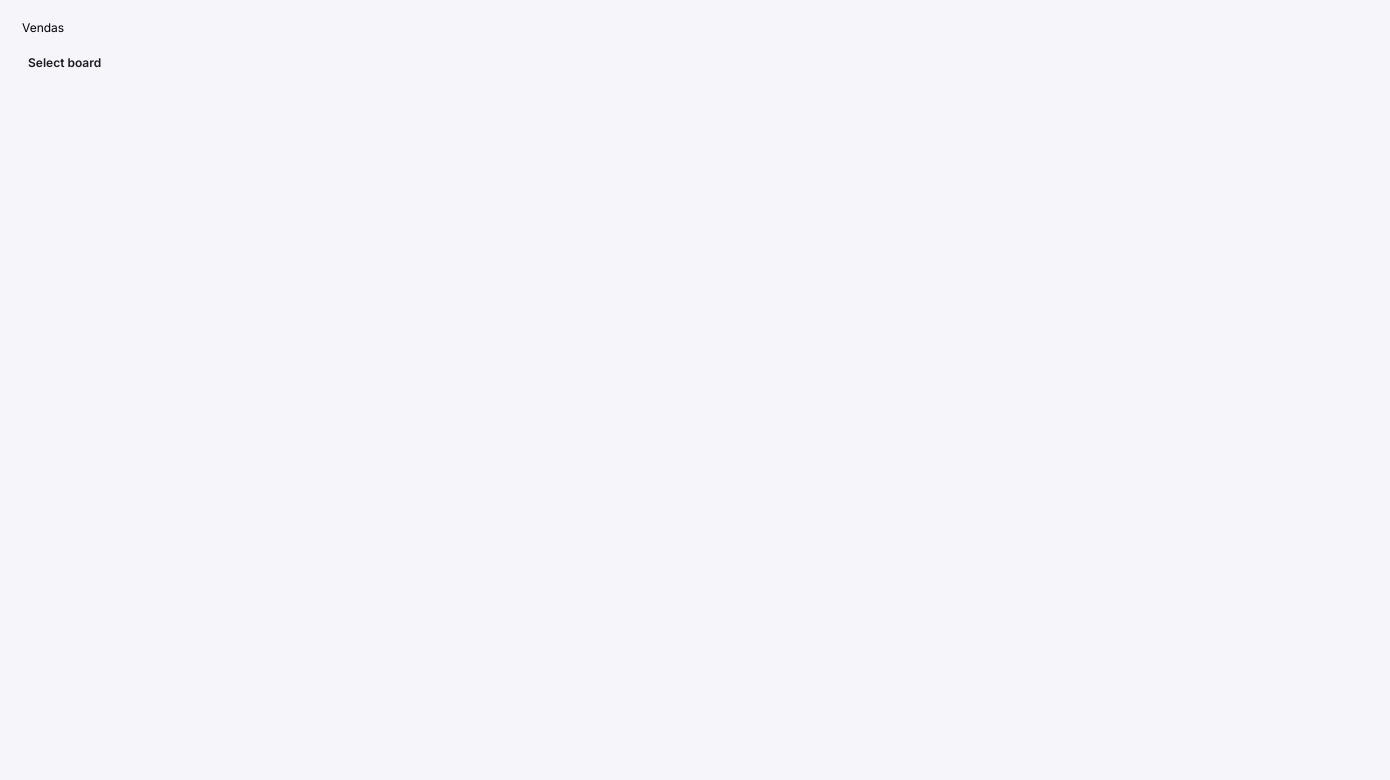
Scenario: CardFieldPicker › loads the fields of the chosen board and lets the author pick a custom field
Press Enter in the dropdown, box x1=12 y1=52 x2=1378 y2=74
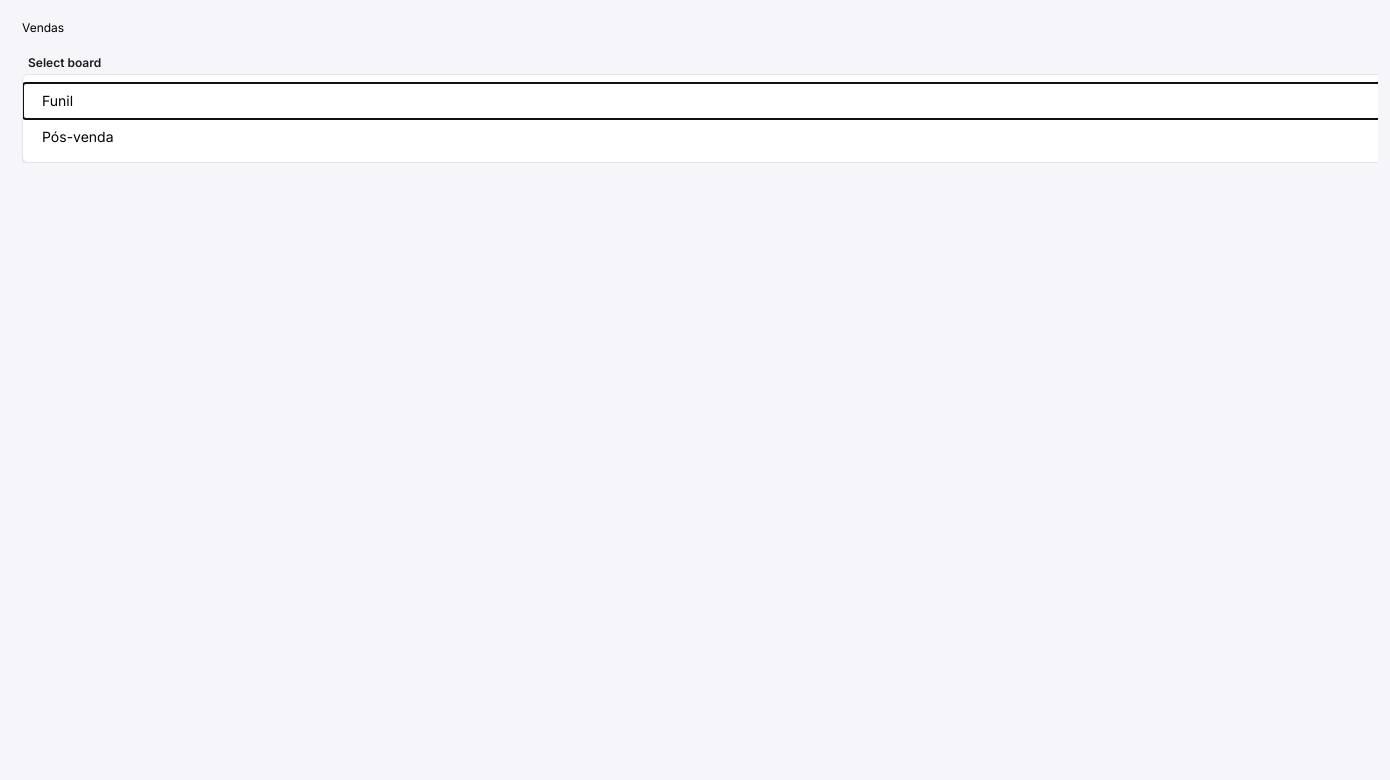
Click the option "Pós-venda": (78, 136) x1=42 y1=128 x2=114 y2=145
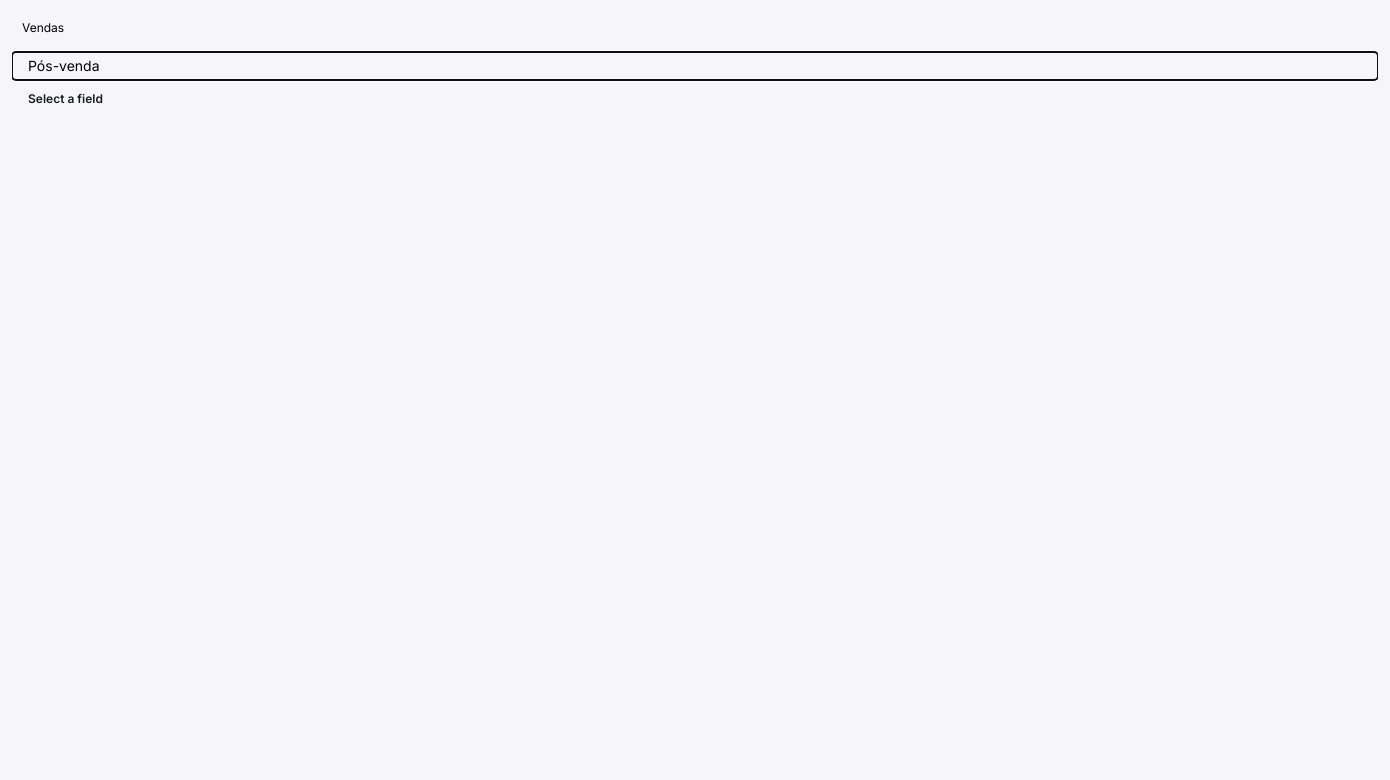
Expected: the text "Select a field" is shown, x1=28 y1=92 x2=103 y2=106
Press Enter in the dropdown labelled "Select a field", box x1=12 y1=88 x2=1378 y2=110
(page scrolled)
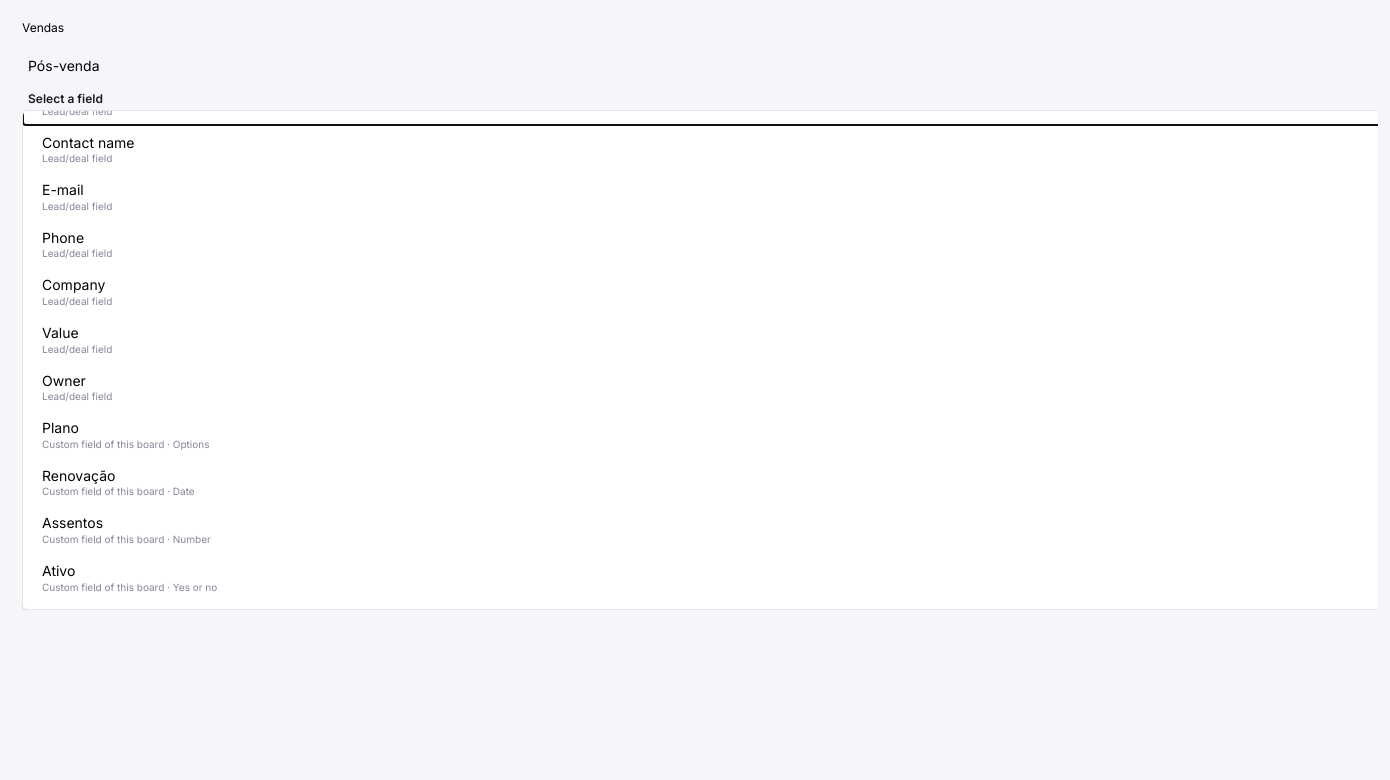
Expected: the option "Value Lead/deal field" is shown, x1=42 y1=324 x2=112 y2=355
Click the option "Renovação Custom field of this board · Date": (118, 482) x1=42 y1=467 x2=195 y2=497
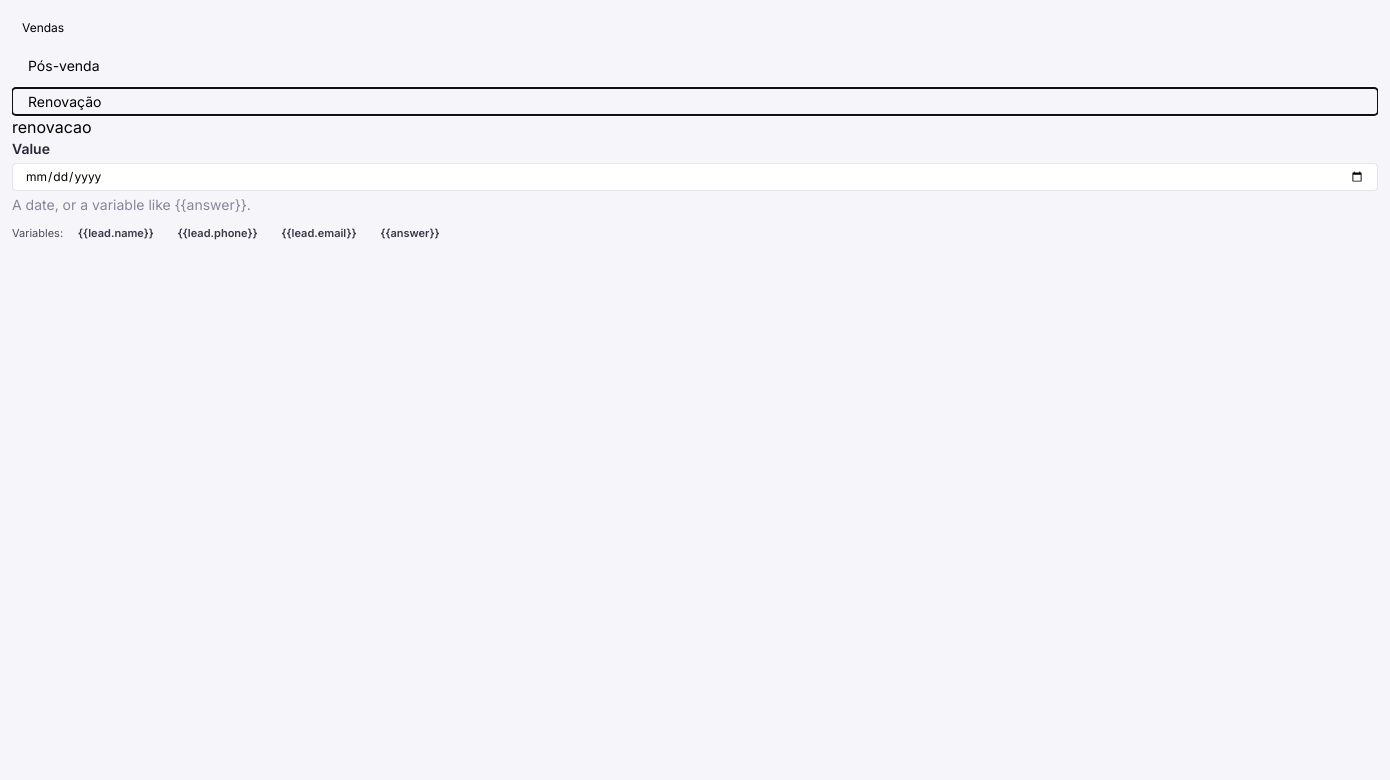
Expected: the text with test id "picked" reads "renovacao", x1=12 y1=117 x2=92 y2=137
